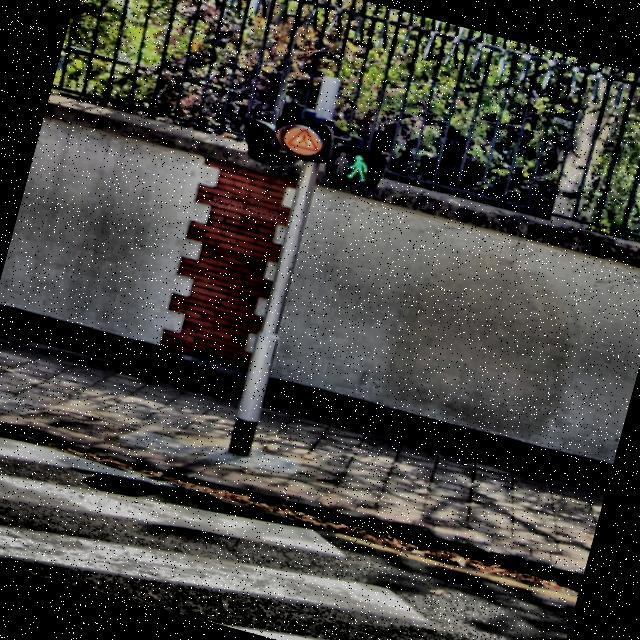green_light: (340, 148, 376, 185)
